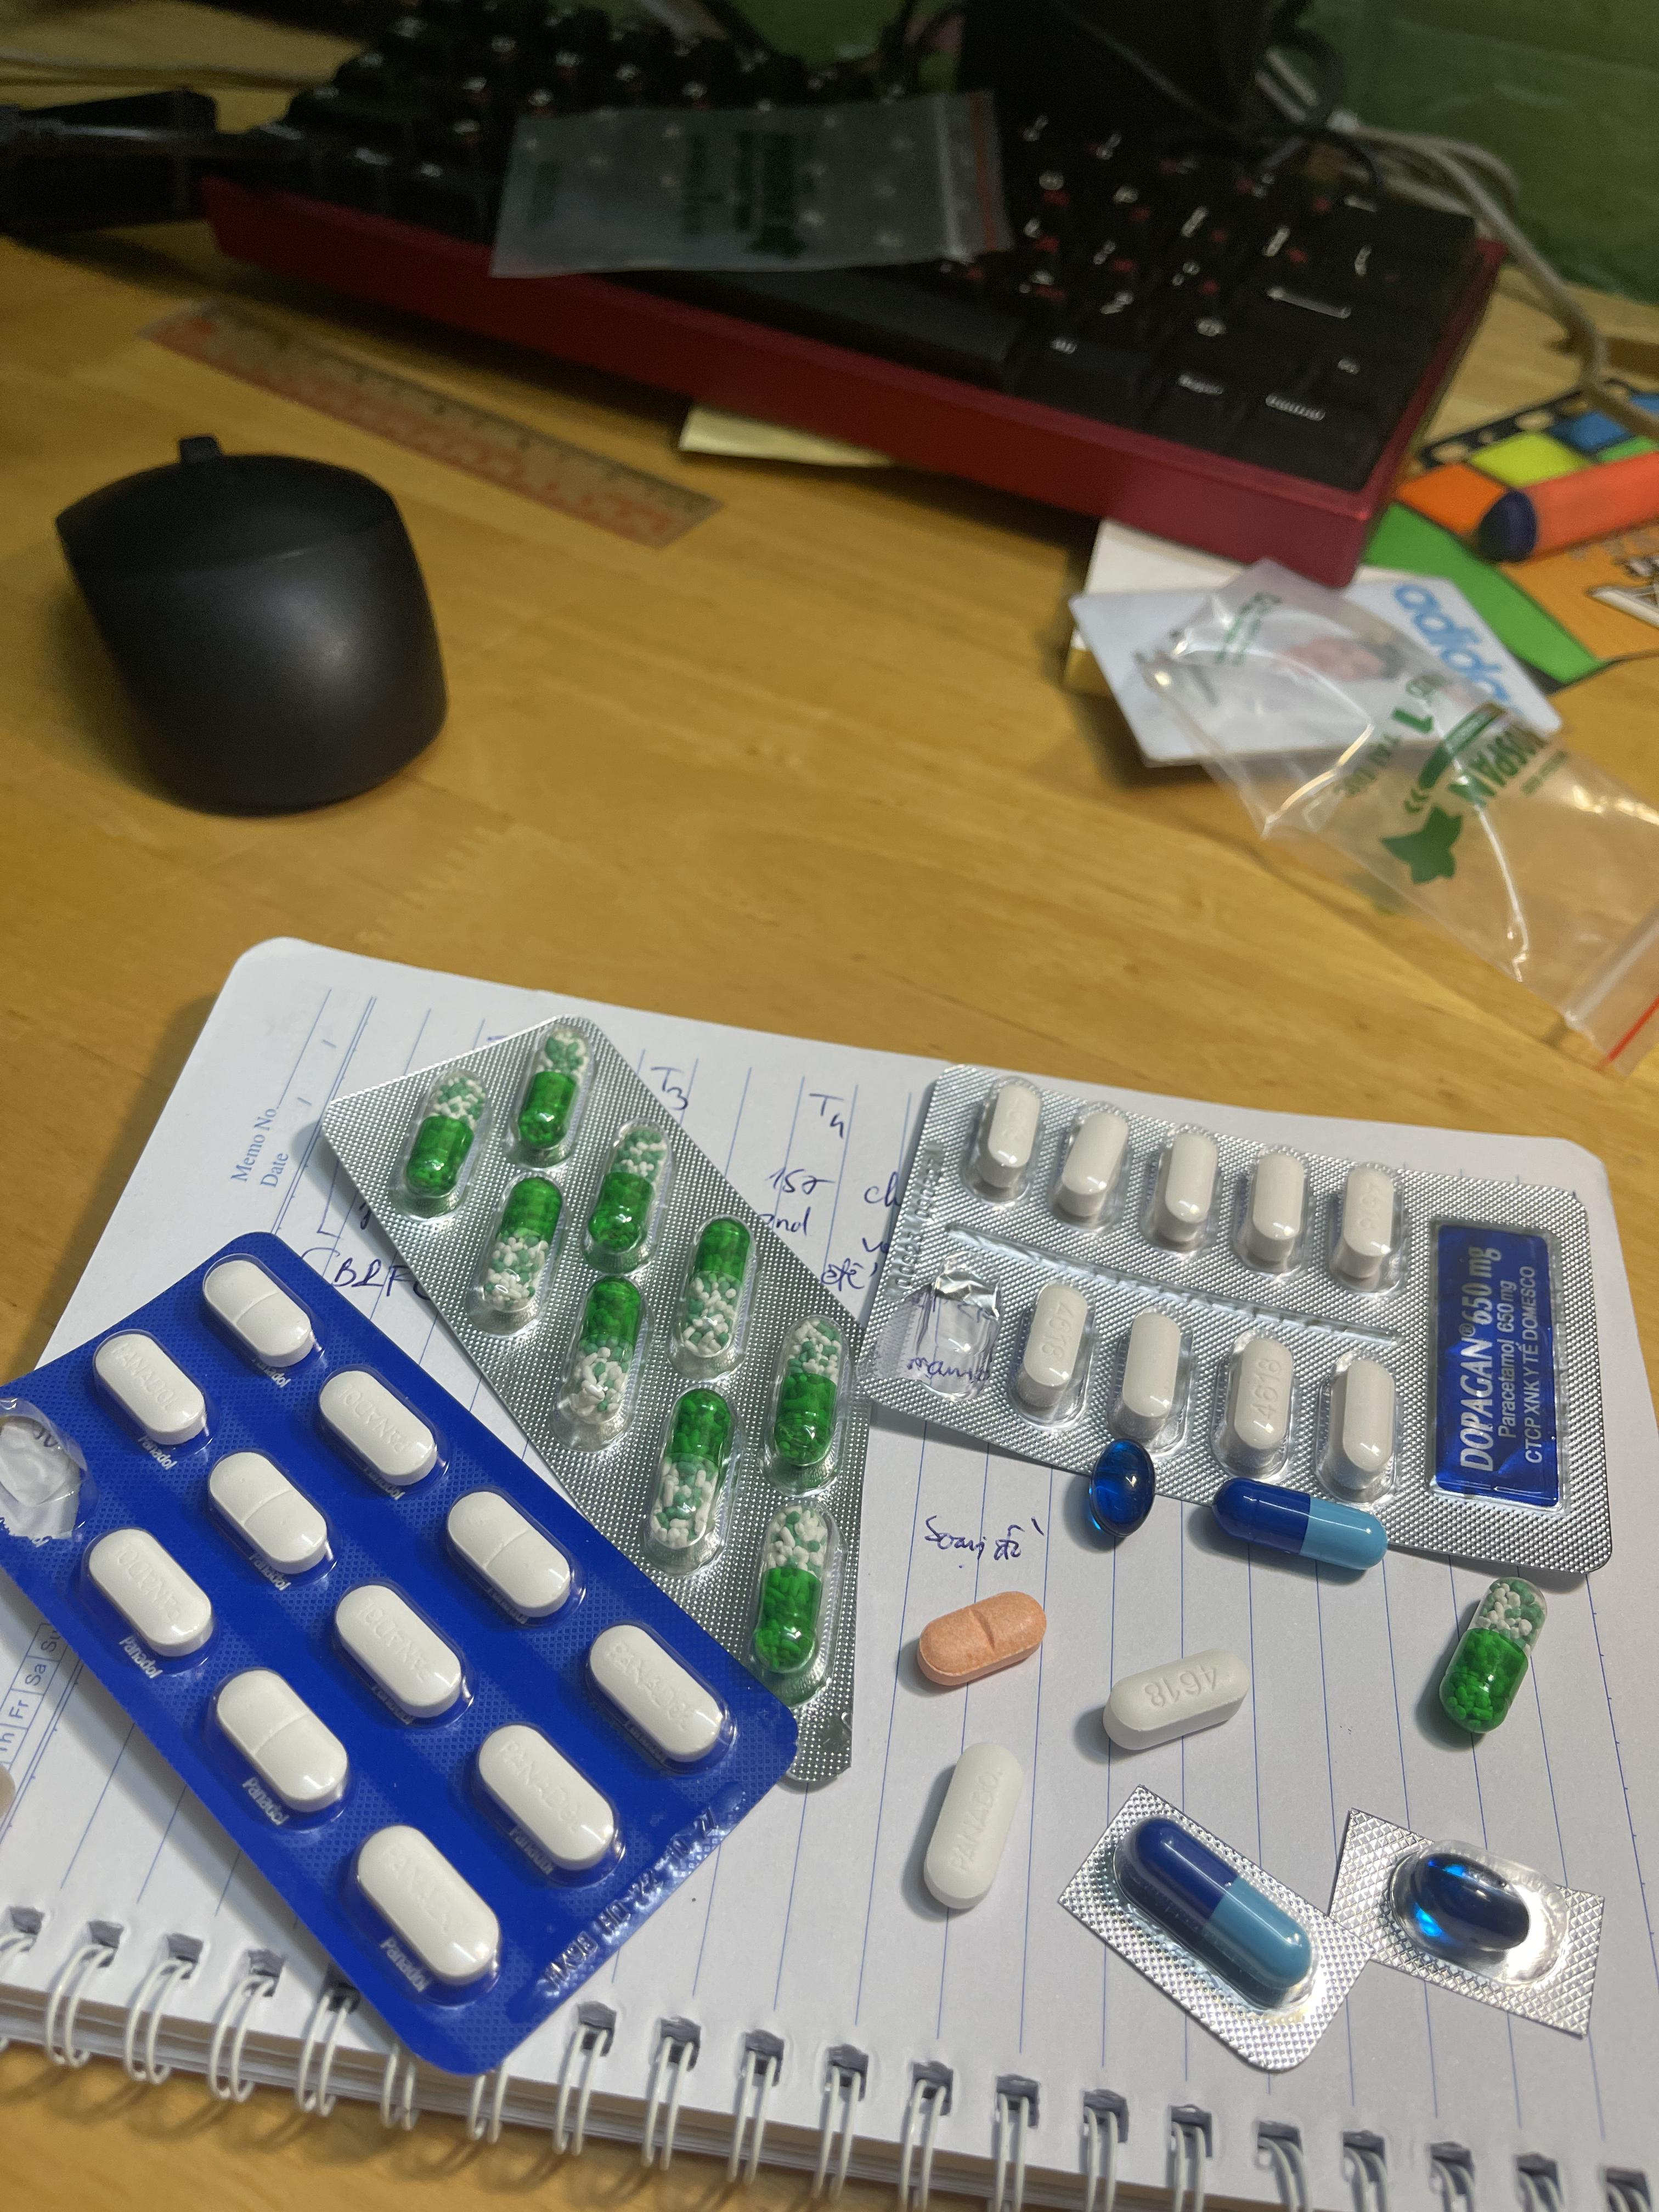Lincomyxin_500mg: (1405, 1853, 1534, 1954), (1084, 1435, 1155, 1540)
Loratadine_10mg: (915, 1592, 1046, 1686)
Paracetamol_350mg: (356, 1827, 500, 1989), (474, 1724, 619, 1876), (589, 1625, 732, 1770), (211, 1669, 347, 1820), (335, 1585, 467, 1723), (924, 1742, 1025, 1911), (87, 1529, 214, 1663), (446, 1491, 575, 1622), (209, 1453, 333, 1583), (319, 1369, 441, 1491), (94, 1331, 209, 1449), (202, 1258, 317, 1374)
Paracetamol_500mg: (1103, 1649, 1248, 1745), (1009, 1280, 1094, 1411), (1053, 1104, 1133, 1224), (967, 1076, 1046, 1198), (1222, 1332, 1293, 1460), (1331, 1352, 1398, 1484), (1239, 1146, 1310, 1268), (1331, 1162, 1401, 1285), (1115, 1308, 1187, 1423), (1152, 1127, 1222, 1242)
Paracetamol_650mg: (1434, 1580, 1544, 1737), (647, 1388, 737, 1562), (751, 1503, 831, 1689), (559, 1277, 648, 1440), (474, 1174, 568, 1318), (765, 1318, 843, 1474), (586, 1123, 669, 1268), (673, 1219, 751, 1367), (512, 1024, 594, 1162), (403, 1076, 488, 1204)
pill: (1121, 1818, 1310, 2000), (1215, 1480, 1378, 1571)
